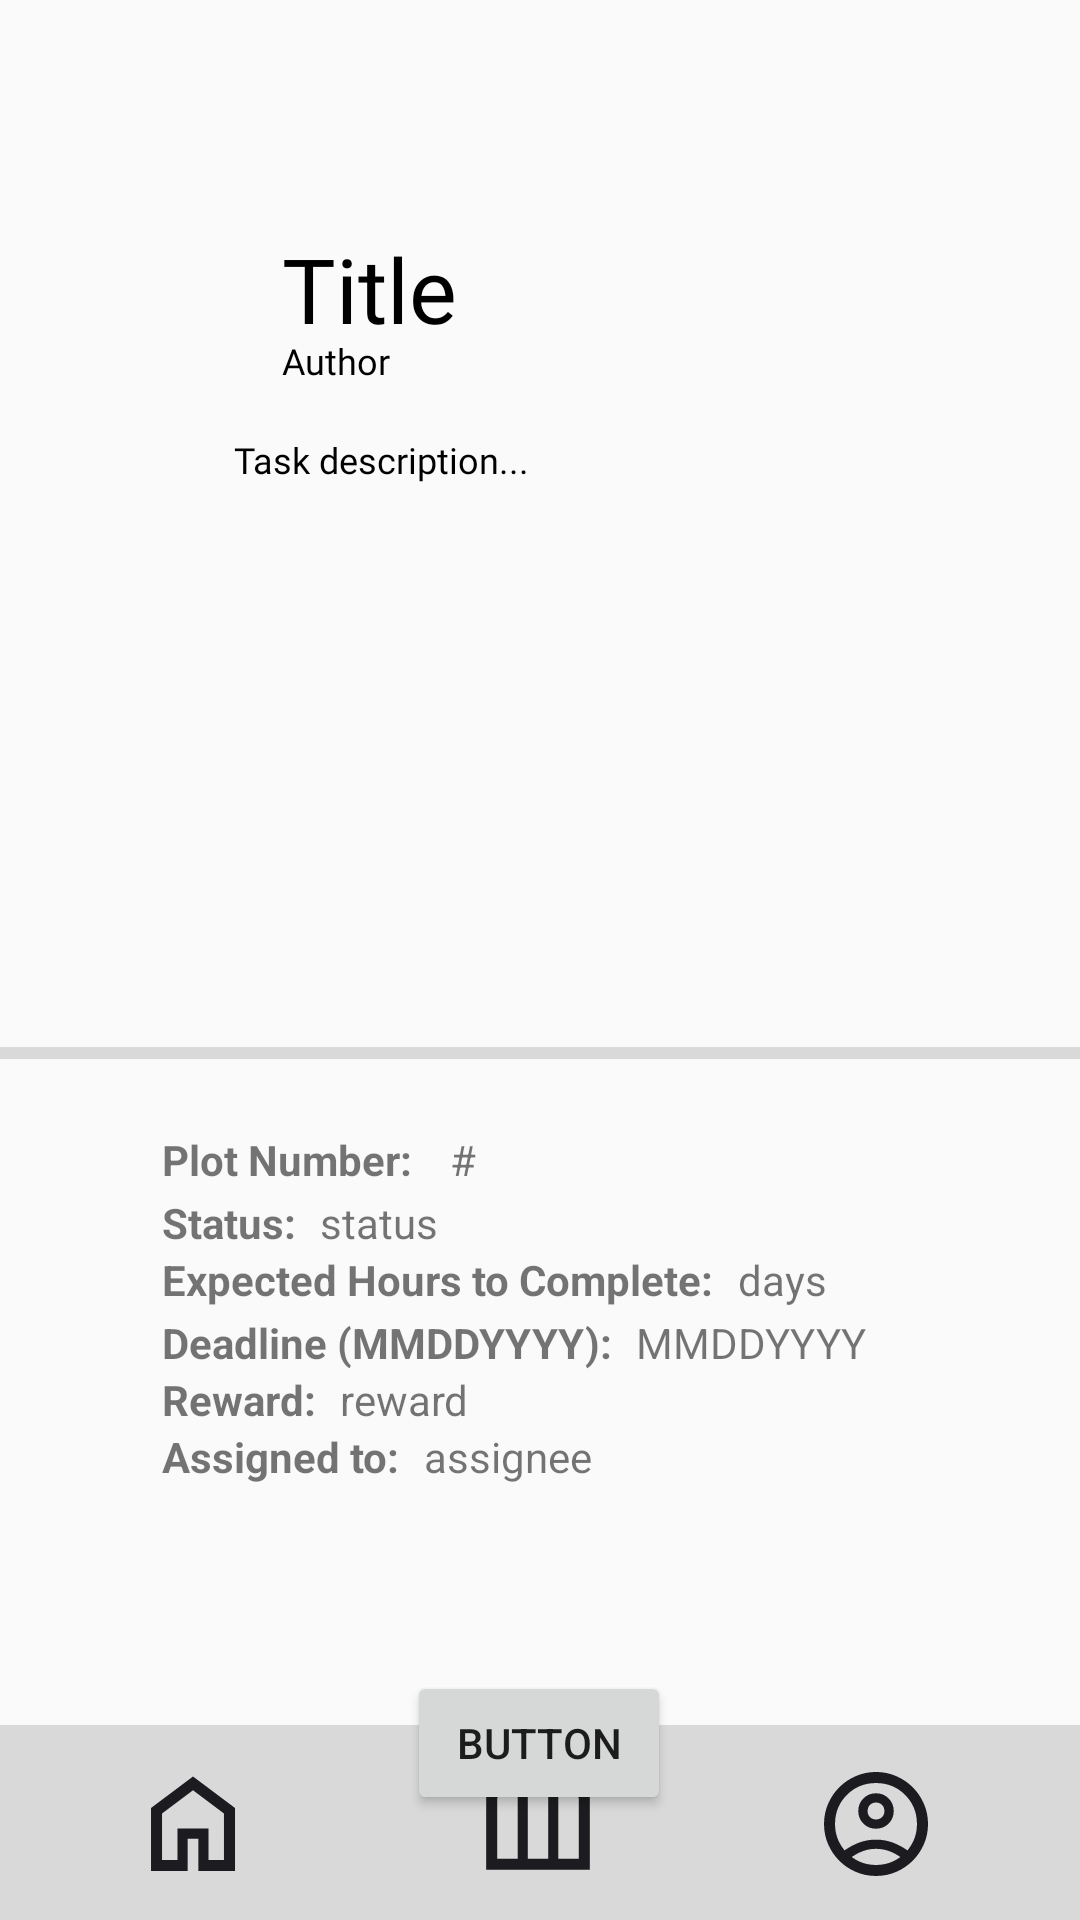

Screen size 1080w x 1920h. Icon name, then its center in pixels as [x,y]:
home: [193,1823]
